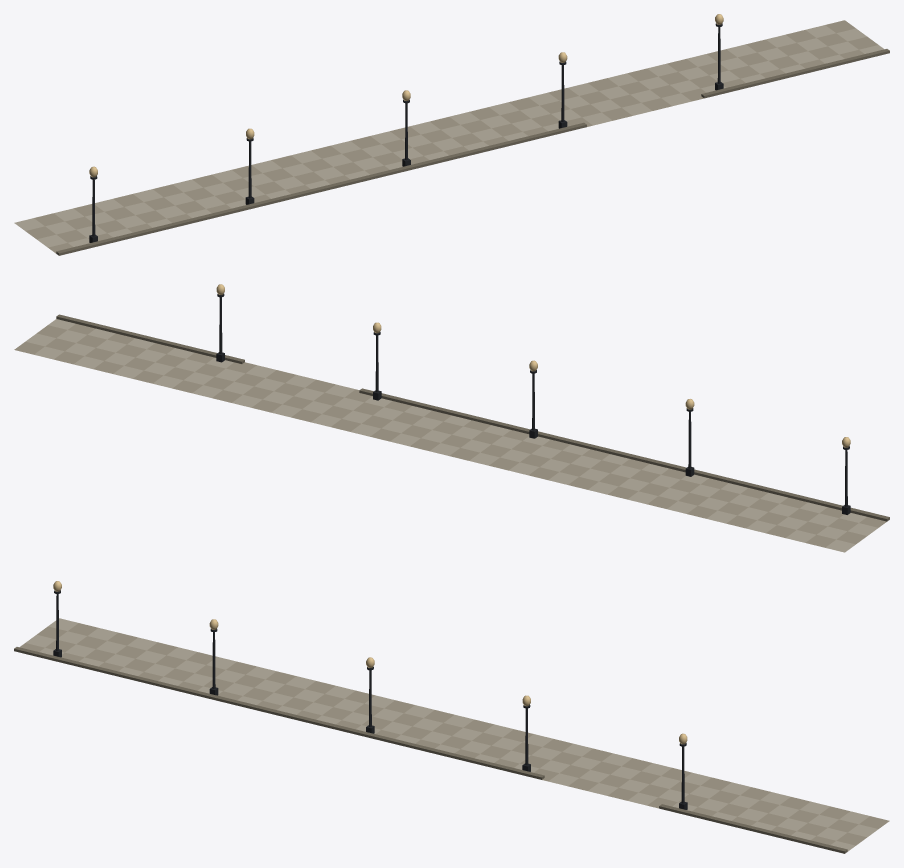
Rendered from street.glb.
3 views of the same model, one above another, from view 1: azimuth 30°, elevation 25°; view 2: azimuth 150°, elevation 25°; view 3: azimuth 330°, elevation 25° (orthographic).
Visible parts, largest first — view 1: floor, shell; view 2: floor, shell; view 3: floor, shell.
Part boxes in pixels (x1,y1,x2,y2): floor: (14, 20, 883, 253); shell: (56, 23, 889, 255); floor: (14, 319, 886, 552); shell: (56, 294, 889, 521); floor: (20, 618, 889, 851); shell: (14, 590, 847, 853).
Bounding box in the file's own units: 42.5 × 3.73 × 4.
